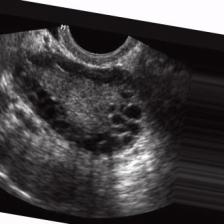pcos: (0, 47, 171, 175)
